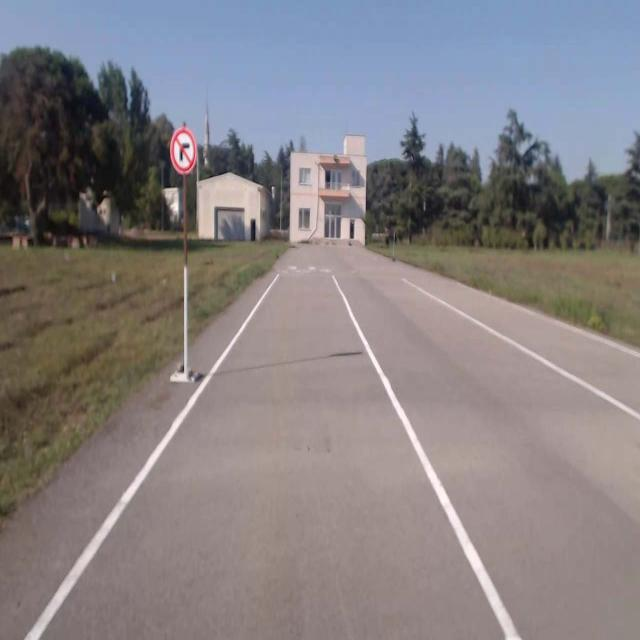sagadonulmez: (172, 130, 196, 170)
